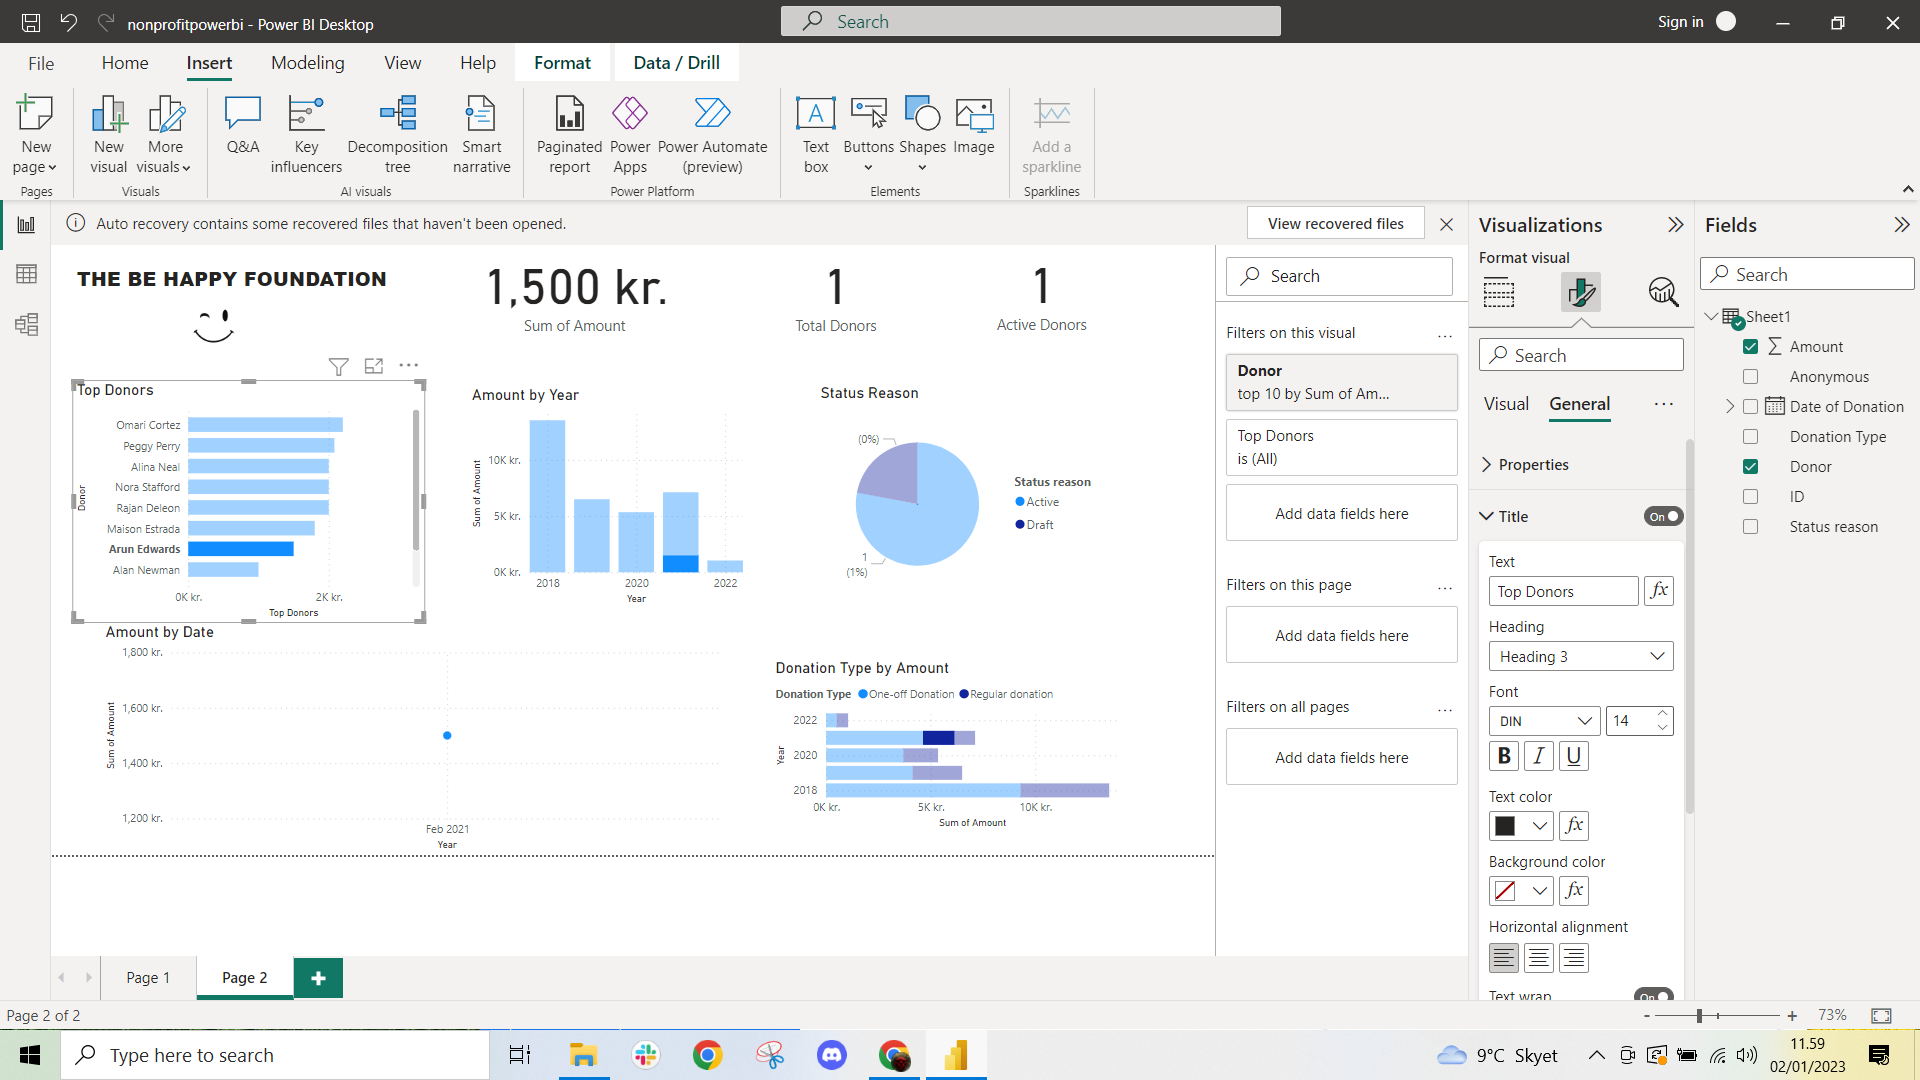

Layout of this report page (visuals, bound fields, positions):
{"tool":"powerbi","page":{"name":"Page 2","canvas":[1280,720],"ordinal":1},"visuals":[{"type":"clusteredBarChart","title":"Top Donors","fields":{"Category":["Sheet1.Donor"],"Y":["Sum(Sheet1.Amount)"]},"box":[23.4,198,387.7,251.6],"z":0},{"type":"columnChart","title":"Amount by Year","fields":{"Y":["Sum(Sheet1.Amount)"],"Category":["Sheet1.Date of Donation.Variation.Date Hierarchy.Year"]},"box":[457.8,203.5,308,246.1],"z":1},{"type":"card","fields":{"Values":["Sum(Sheet1.Amount)"]},"box":[424.8,22,302.5,154],"z":3},{"type":"card","fields":{"Values":["Count(Sheet1.Donor)"]},"box":[681.9,31.6,363,134.7],"z":4},{"type":"card","fields":{"Values":["Count(Sheet1)"]},"box":[965.2,46.7,248.9,103.1],"z":5},{"type":"textbox","box":[23.4,31.6,401.5,82.5],"z":6},{"type":"textbox","box":[23,546,402,174],"z":7},{"type":"textbox","box":[766,546,304,174],"z":9},{"type":"lineChart","title":"Amount by Date","fields":{"Y":["Sum(Sheet1.Amount)"],"Category":["Sheet1.Date of Donation.Variation.Date Hierarchy.Year","Sheet1.Date of Donation.Variation.Date Hierarchy.Quarter","Sheet1.Date of Donation.Variation.Date Hierarchy.Month"]},"box":[55,464.7,688.8,255.7],"z":10},{"type":"barChart","title":"Donation Type by Amount","fields":{"Y":["Sum(Sheet1.Amount)"],"Category":["Sheet1.Date of Donation.Variation.Date Hierarchy.Year","Sheet1.Date of Donation.Variation.Date Hierarchy.Quarter","Sheet1.Date of Donation.Variation.Date Hierarchy.Month","Sheet1.Date of Donation.Variation.Date Hierarchy.Day"],"Series":["Sheet1.Donation Type"]},"box":[791.9,504.6,405.6,191.1],"z":11},{"type":"pieChart","title":"Status Reason","fields":{"Y":["CountNonNull(Sheet1.Amount)"],"Series":["Sheet1.Status reason"]},"box":[841.4,202.1,324.5,246.1],"z":12},{"type":"image","box":[133,111.3,91.4,54.8],"z":13}]}

Visuals, with their boxes on the page's 1280x720 design canvas (x1, y1, x2, y2). These are canvas units, not pixel positions in the 1920x1080 screenshot, which may show the page scaled, cropped or inside an application window:
"Top Donors" clusteredBarChart: locate(23, 198, 411, 450)
"Amount by Year" columnChart: locate(458, 204, 766, 450)
card - Sum(Sheet1.Amount): locate(425, 22, 727, 176)
card - Count(Sheet1.Donor): locate(682, 32, 1045, 166)
card - Count(Sheet1): locate(965, 47, 1214, 150)
textbox: locate(23, 32, 425, 114)
textbox: locate(23, 546, 425, 720)
textbox: locate(766, 546, 1070, 720)
"Amount by Date" lineChart: locate(55, 465, 744, 720)
"Donation Type by Amount" barChart: locate(792, 505, 1198, 696)
"Status Reason" pieChart: locate(841, 202, 1166, 448)
image: locate(133, 111, 224, 166)
